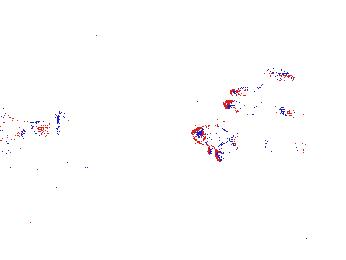X-ray fish: (130, 11, 162, 52)
red belly glassfish: (260, 65, 296, 85), (230, 81, 264, 97)
redtail glassfish: (1, 145, 99, 186), (222, 97, 297, 128), (190, 121, 244, 160), (261, 133, 311, 165), (1, 112, 53, 141)
